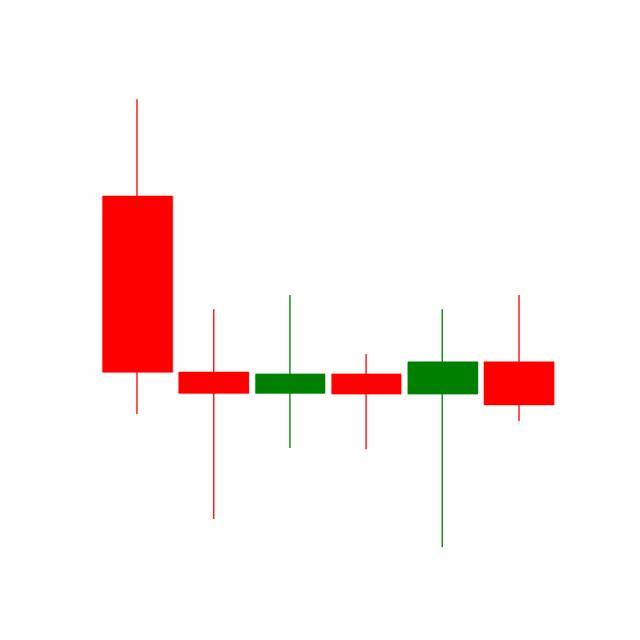Spinning Top: (404, 307, 482, 551)
